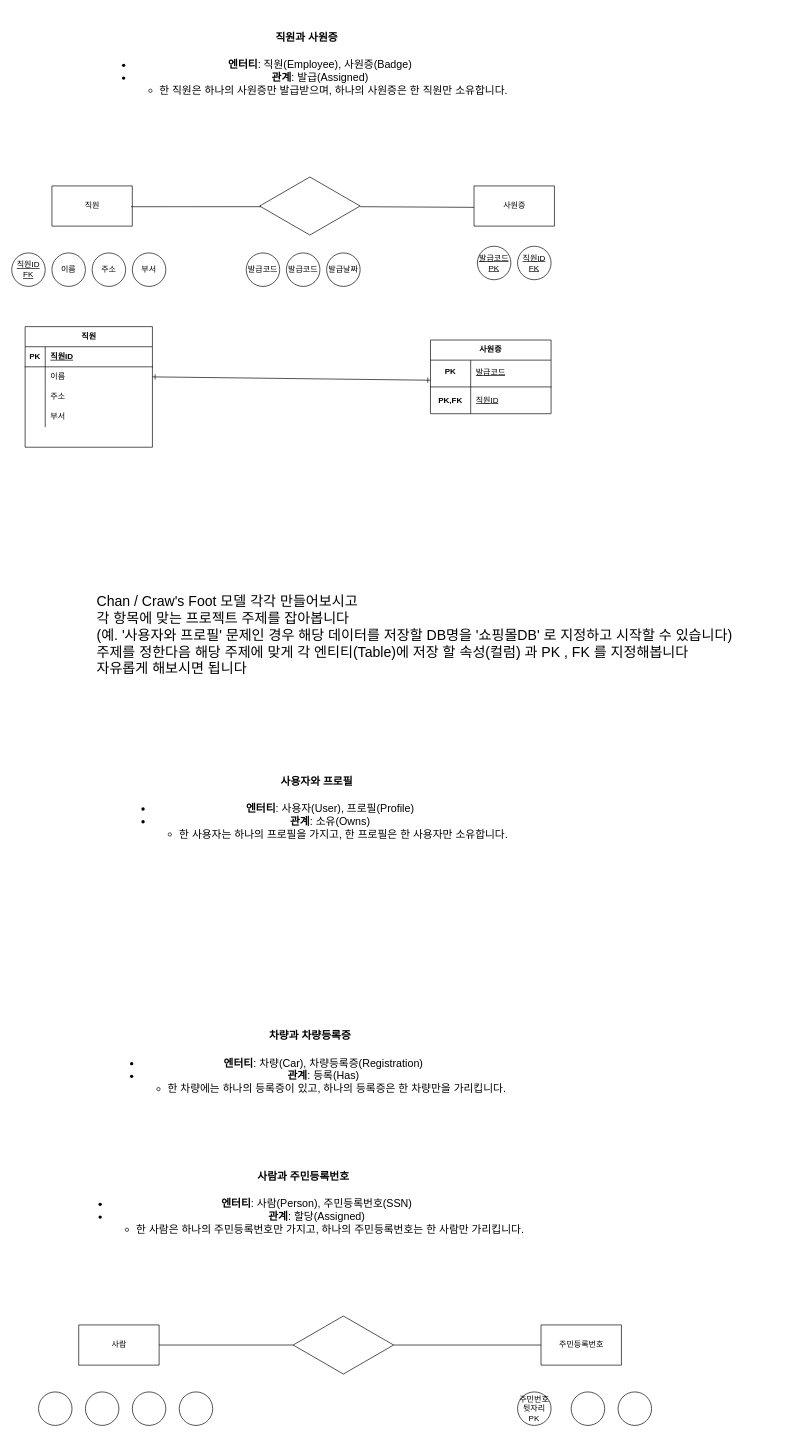
The diagram is 804 pixels wide and 1437 high, and some of its shapes have lost their labels. The centre of each missing label's shape, as x and y in pixels:
발급: (x=309, y=205)
할당: (x=343, y=1344)
